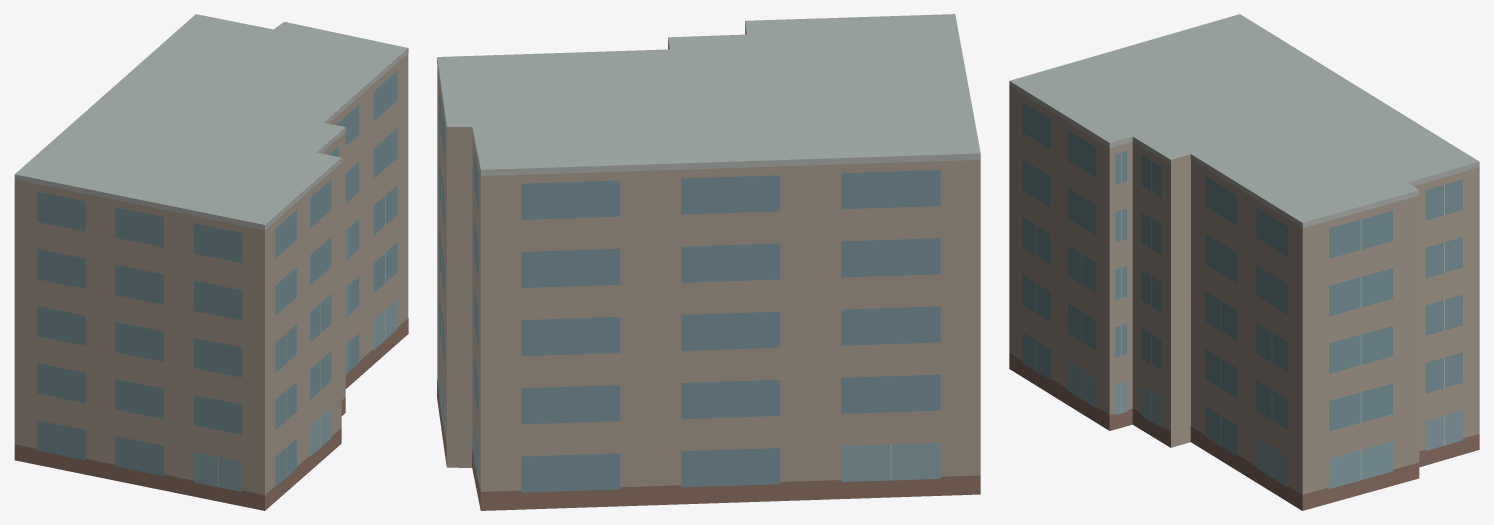
Rendered from survey-upis-32930306.glb.
The picture shows the model from 3 angles, left to right: view 1: azimuth 30°, elevation 25°; view 2: azimuth 150°, elevation 25°; view 3: azimuth 270°, elevation 25°; orthographic projection. The views are drawn at different scales.
Parts seen in each view (by area): view 1: survey-upis-32930306.tmp; view 2: survey-upis-32930306.tmp; view 3: survey-upis-32930306.tmp.
Boxes of the visible parts, box(x1,y1,x2,y2) form: survey-upis-32930306.tmp: box(14, 14, 408, 510); survey-upis-32930306.tmp: box(437, 14, 980, 510); survey-upis-32930306.tmp: box(1009, 14, 1479, 510).
Size of the model in its own units: 20.69 by 13.3 by 19.69.
